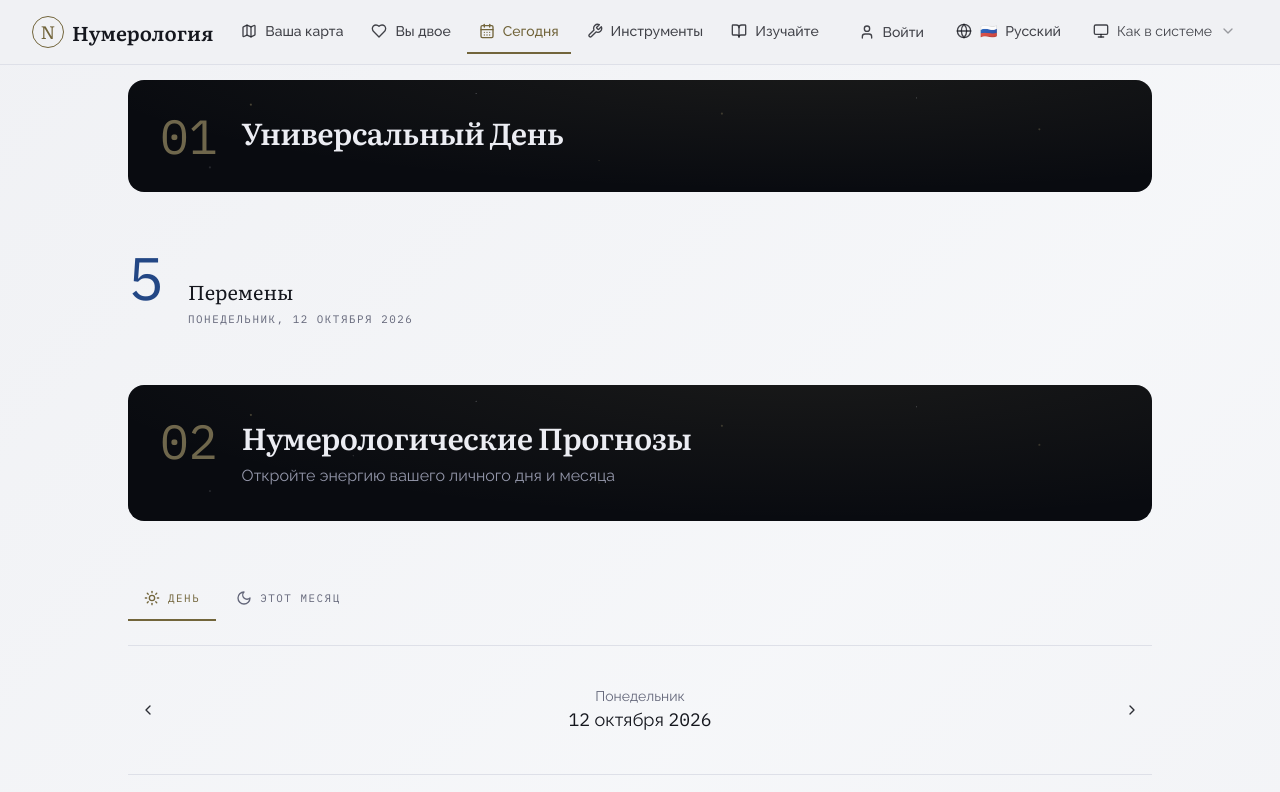
Test: /azi — luna, săptămâna și anul, în limba paginii › numește anul personal an și în rusă
Press the mouse on the tab "Этот месяц" at (288, 599), box x1=220 y1=577 x2=357 y2=621
(page scrolled)
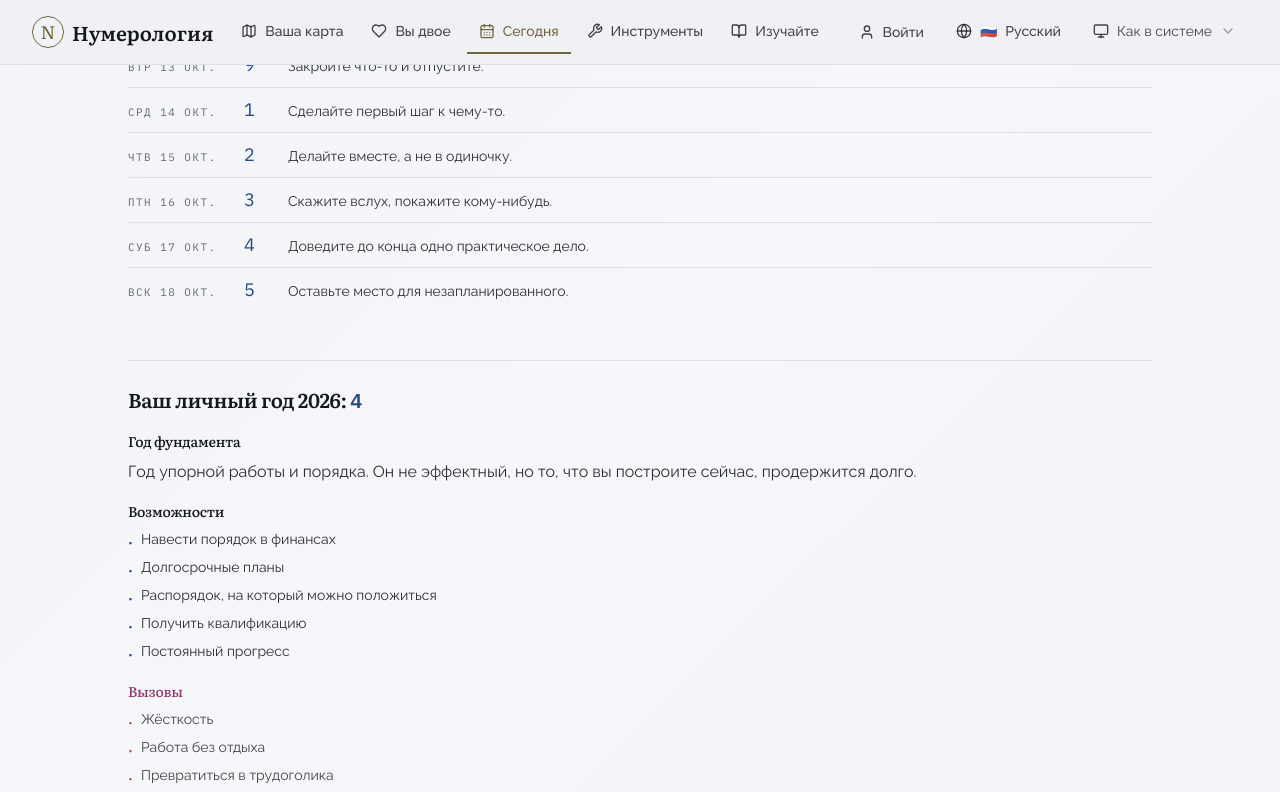
Expected: the heading "Ваш личный год 2026: 4" is shown, x1=128 y1=384 x2=362 y2=414
